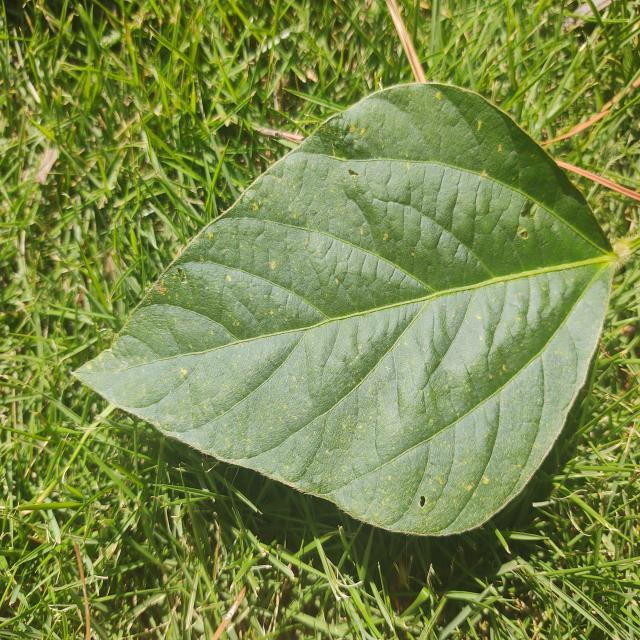Soybean: (73, 81, 616, 541)
downey_mildew: (435, 271, 611, 466), (191, 210, 386, 330), (276, 301, 415, 445), (248, 161, 360, 273), (477, 354, 551, 514), (421, 164, 511, 283), (355, 215, 441, 334), (413, 409, 496, 528), (310, 228, 414, 318), (190, 334, 302, 415), (472, 284, 551, 397), (307, 86, 420, 165), (438, 289, 507, 409), (75, 346, 192, 409), (119, 304, 247, 361), (344, 155, 424, 236), (537, 180, 617, 261), (351, 437, 426, 521), (537, 322, 582, 418)
